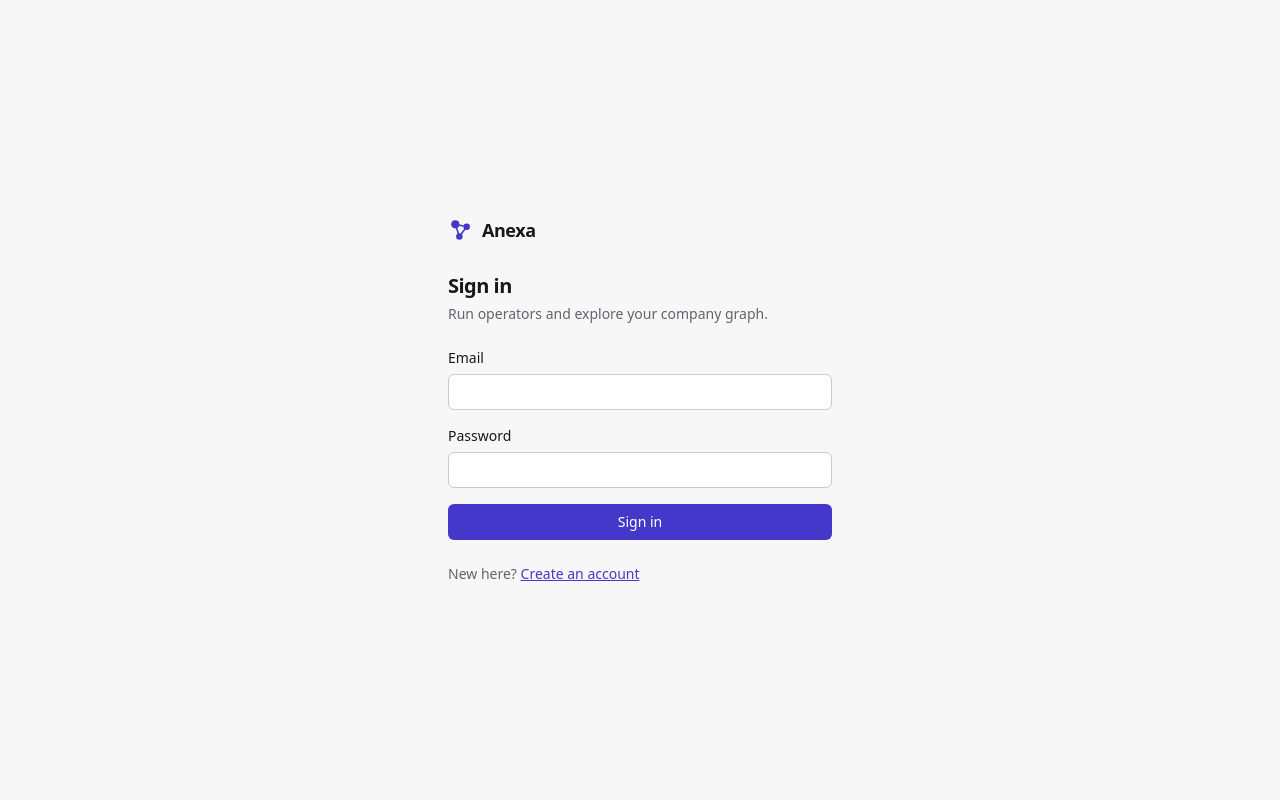
authentication › logs in, stores the token and shows the workspace
The width and height of the screenshot is (1280, 800).
Type "ada@acme.com" into the field labelled "Email".
click(640, 392); type("ada@acme.com")  # box [448,374,832,410]
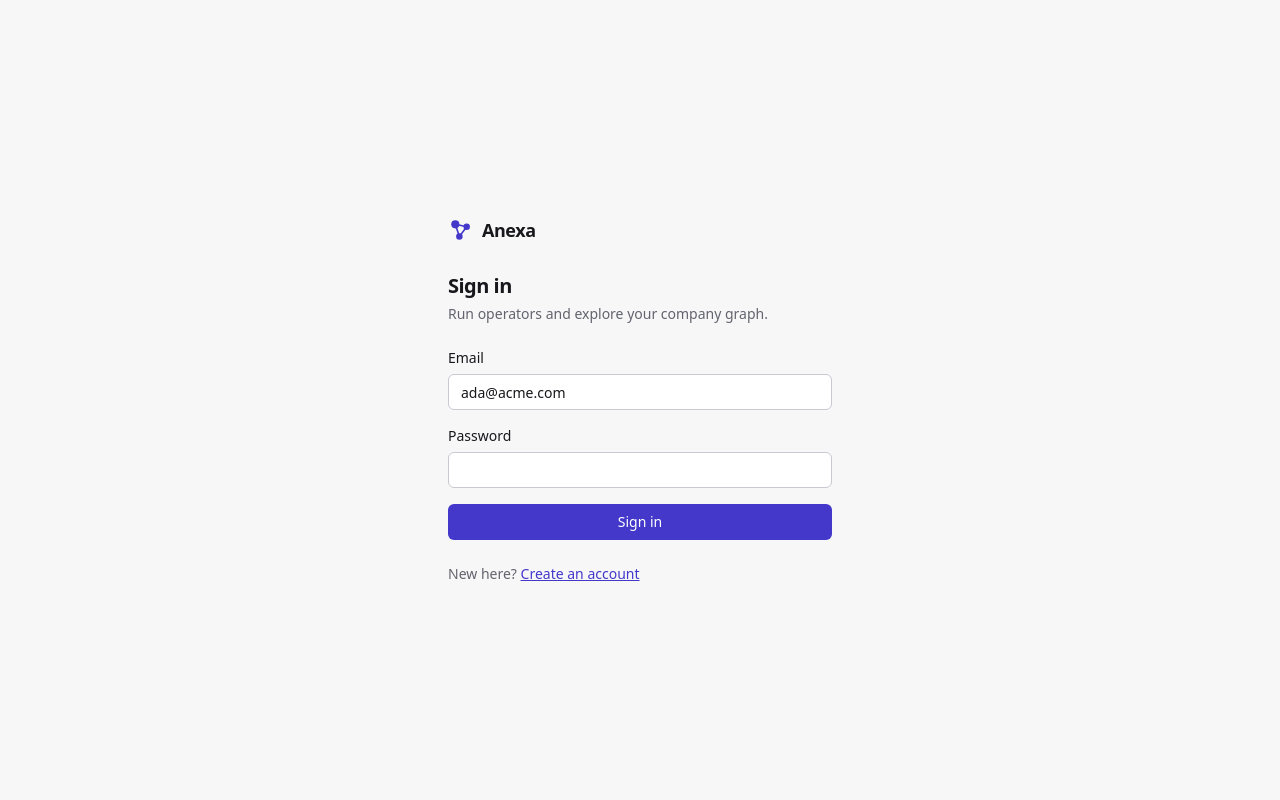
Type "correct horse" into the password field labelled "Password".
click(640, 470); type("correct horse")  # box [448,452,832,488]
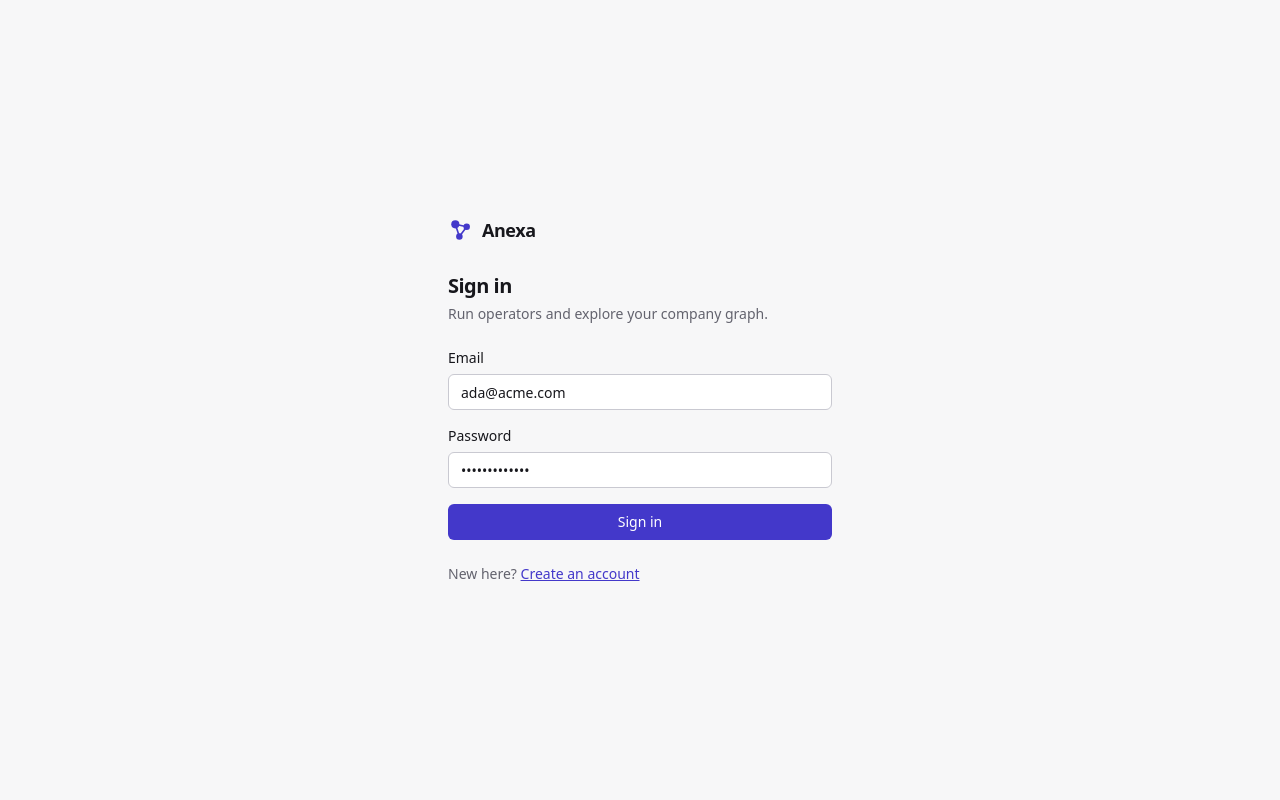
Click the button "Sign in".
click(640, 522)  # box [448,504,832,540]
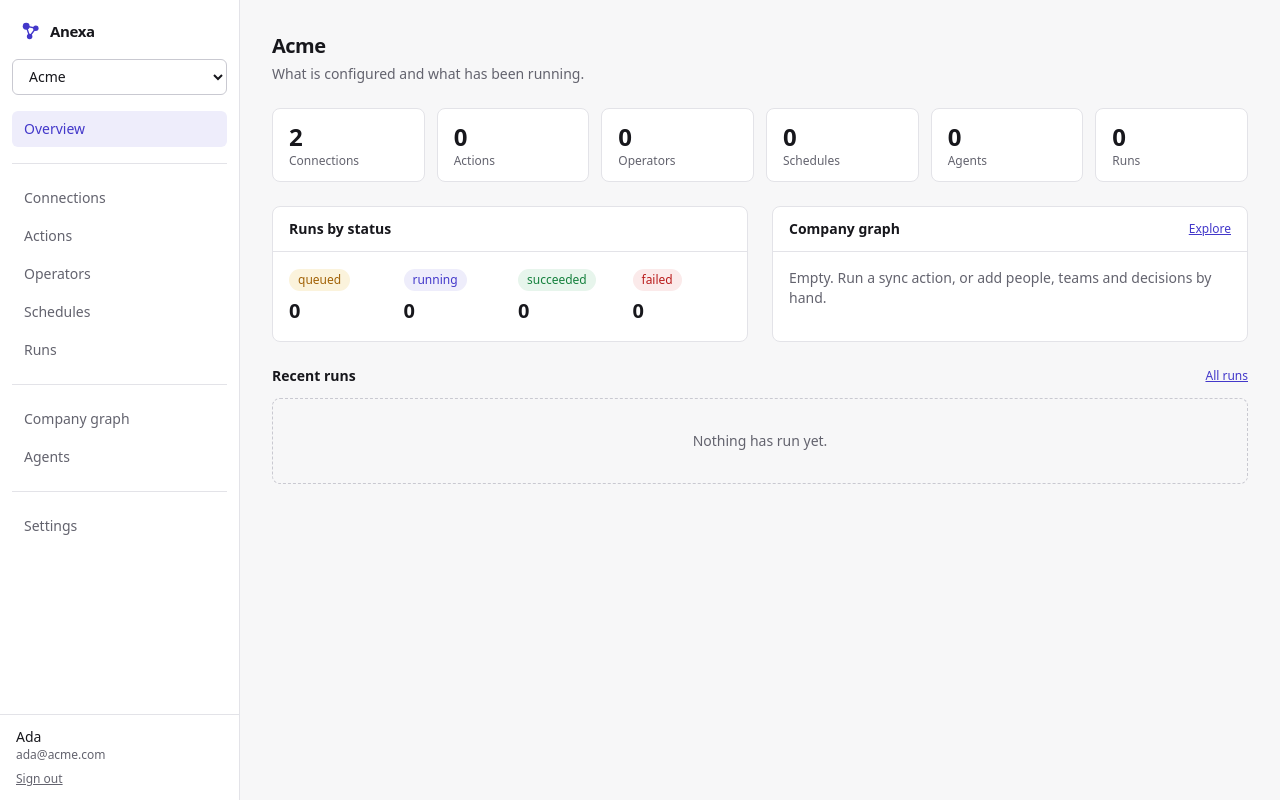
Result: the heading "Acme" is shown at [272,32,326,59]
Result: the text "ada@acme.com" is shown at [16,746,106,763]
